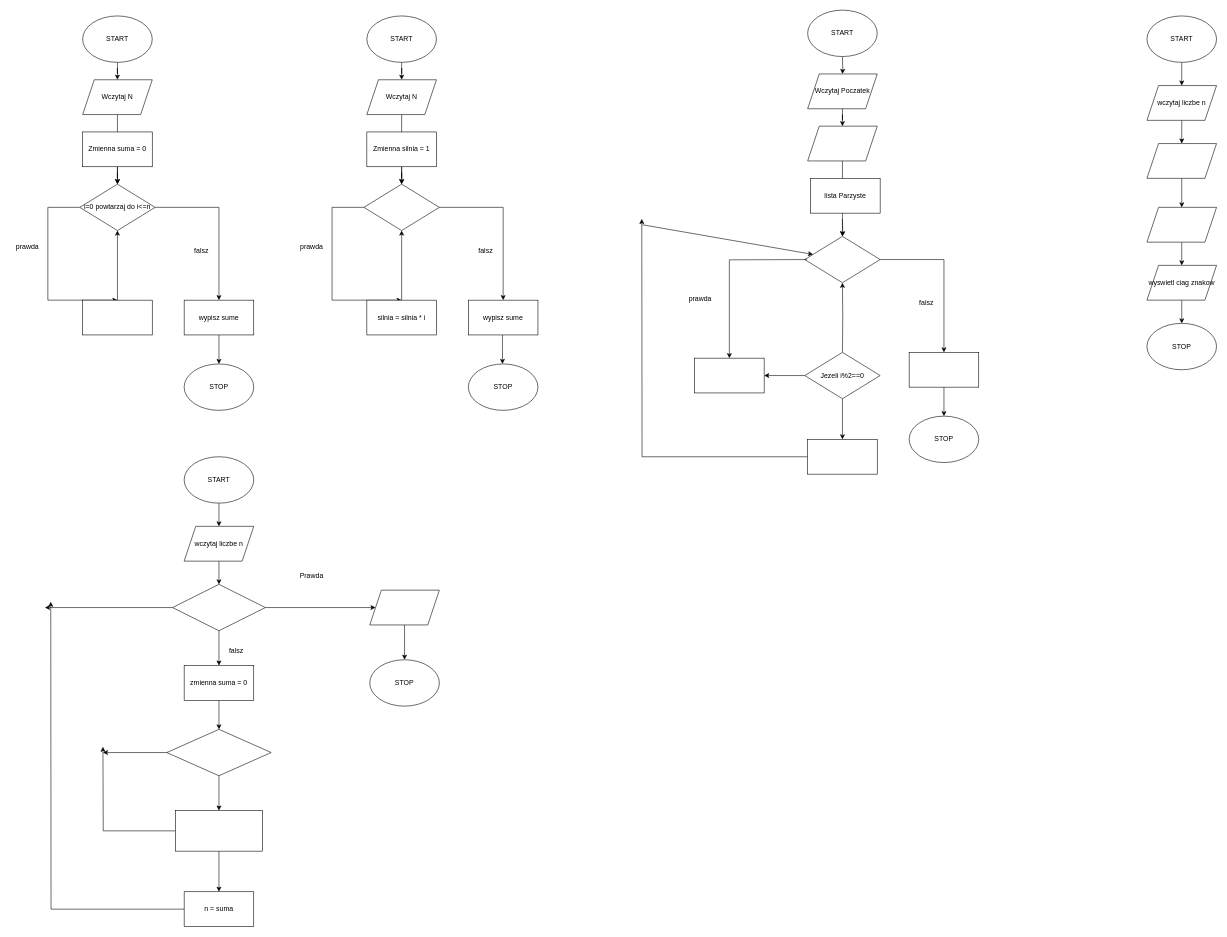
The diagram is 1227 pixels wide and 937 high, and some of its shapes have lost their labels. The shapes that lost their labels are listed below. From the top down, each one's centre as x and y in pixels, then its label:
At pixel 842 143: "wczytaj Koniec".
At pixel 1181 160: "zmien n na ciag znakowy".
At pixel 401 207: "i=1 powtarzaj do i<=n".
At pixel 1181 224: "odwroc ciag znakow".
At pixel 842 259: "i = Poczatek; powtarzaj do Koniec".
At pixel 117 317: "dodaj i do sumy i zwieksz o 1".
At pixel 729 375: "dodaj i do listy Parzyste".
At pixel 944 369: "Wyswietl liste Parzyste".
At pixel 842 456: "I + 1 kontynuuj".
At pixel 218 607: "jezeli n<10".
At pixel 404 607: "wypisz n".
At pixel 218 752: "Dopoki n>0".
At pixel 218 830: "suma - suma + n % 10 n=n/10".
